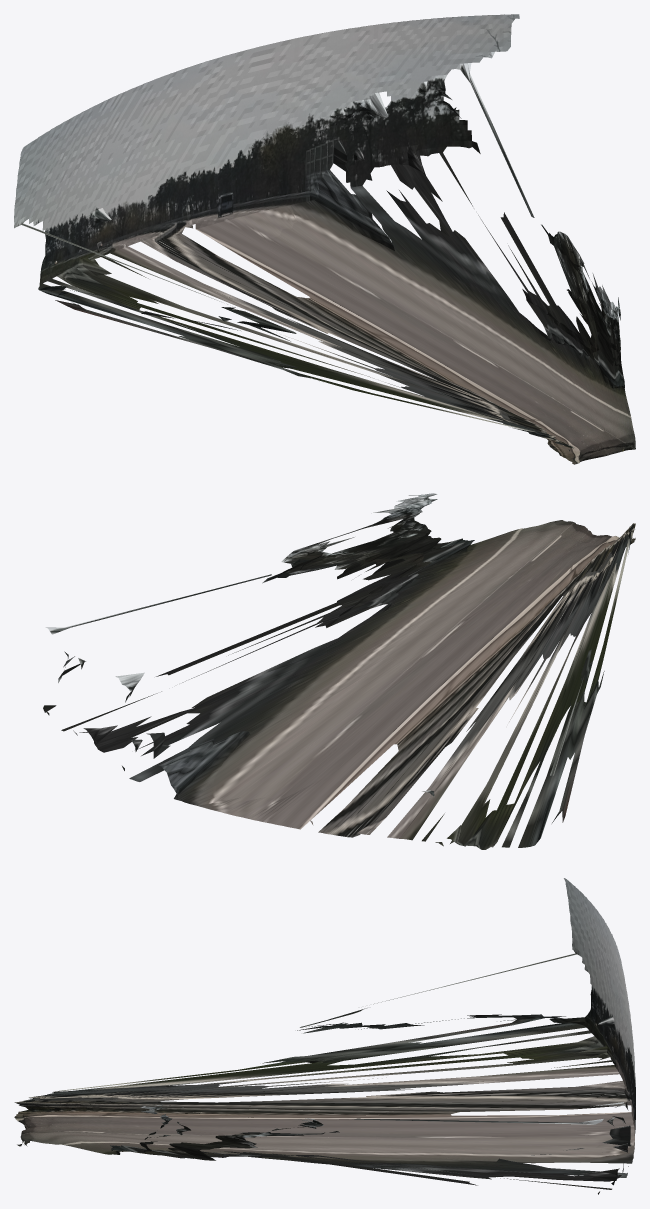
The picture shows the model from 3 angles, top to bottom: view 1: azimuth 30°, elevation 25°; view 2: azimuth 150°, elevation 25°; view 3: azimuth 270°, elevation 25°; orthographic projection. The views are drawn at different scales.
Visible parts, largest first — view 1: defaultobject; view 2: defaultobject; view 3: defaultobject.
Part boxes in pixels (x1=…): defaultobject: x1=14, y1=14, x2=635, y2=464; defaultobject: x1=43, y1=493, x2=635, y2=849; defaultobject: x1=14, y1=878, x2=635, y2=1194.
Size of the model in its own units: 37.73 by 12.38 by 44.65.
Materials: 1 (1 with a texture image).
